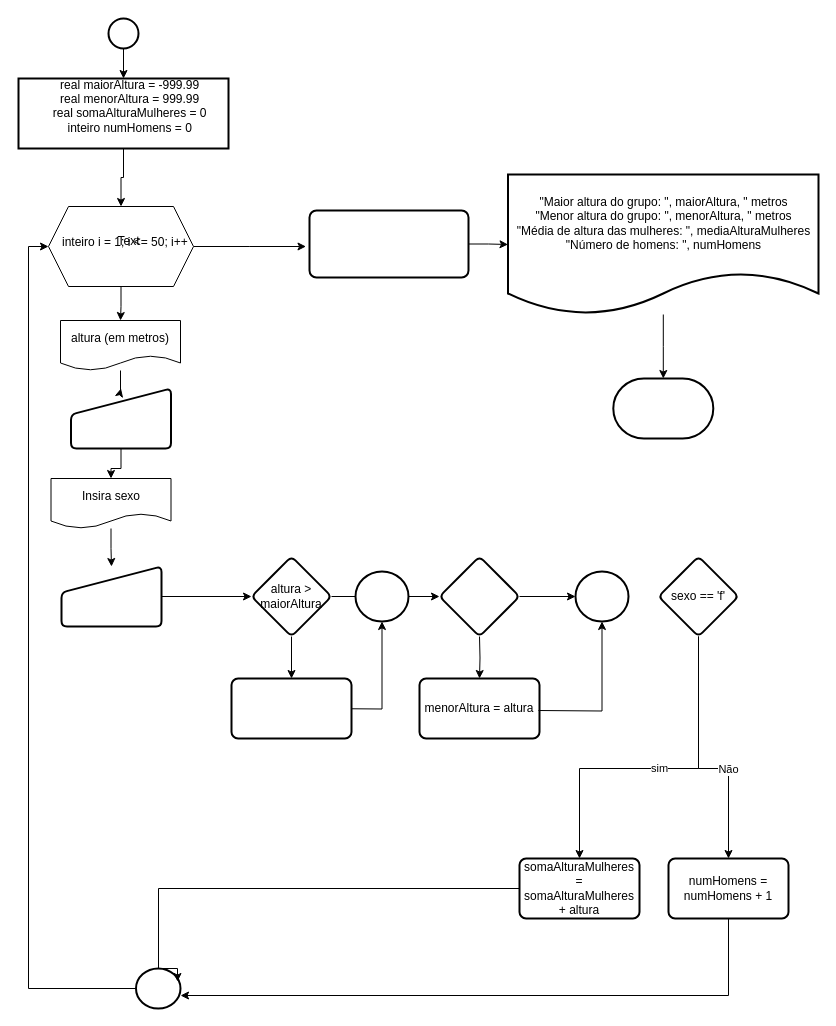
This 836x1026 diagram has some shape labels left out. The shapes that lost their labels are listed below. From the top down, each one's box as (x1, y1, x2, y2) in pixels, then its label:
(308, 209, 469, 278): real mediaAlturaMulheres = somaAlturaMulheres / 50
(70, 387, 172, 449): ler altura
(60, 565, 162, 627): ler sexo
(438, 555, 520, 637): altura < menorAltura
(230, 677, 352, 739): maiorAltura = altura
